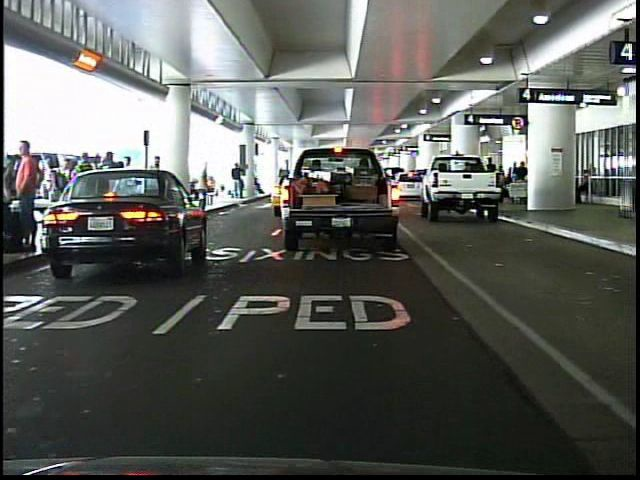person: (18, 137, 43, 256), (147, 152, 169, 220), (197, 158, 216, 221), (232, 161, 250, 199)
